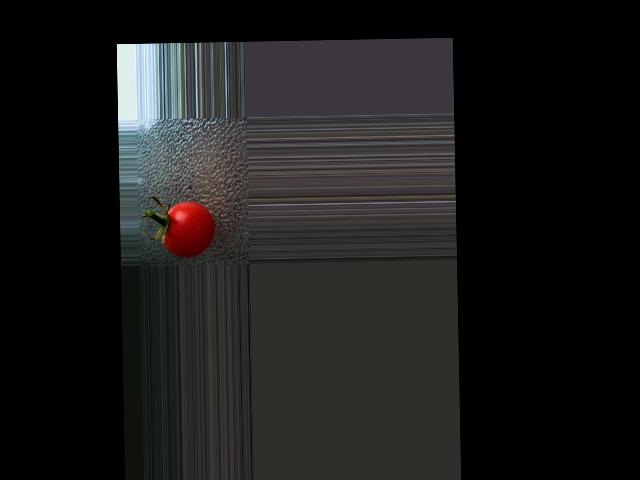tomato: (163, 199, 216, 257)
